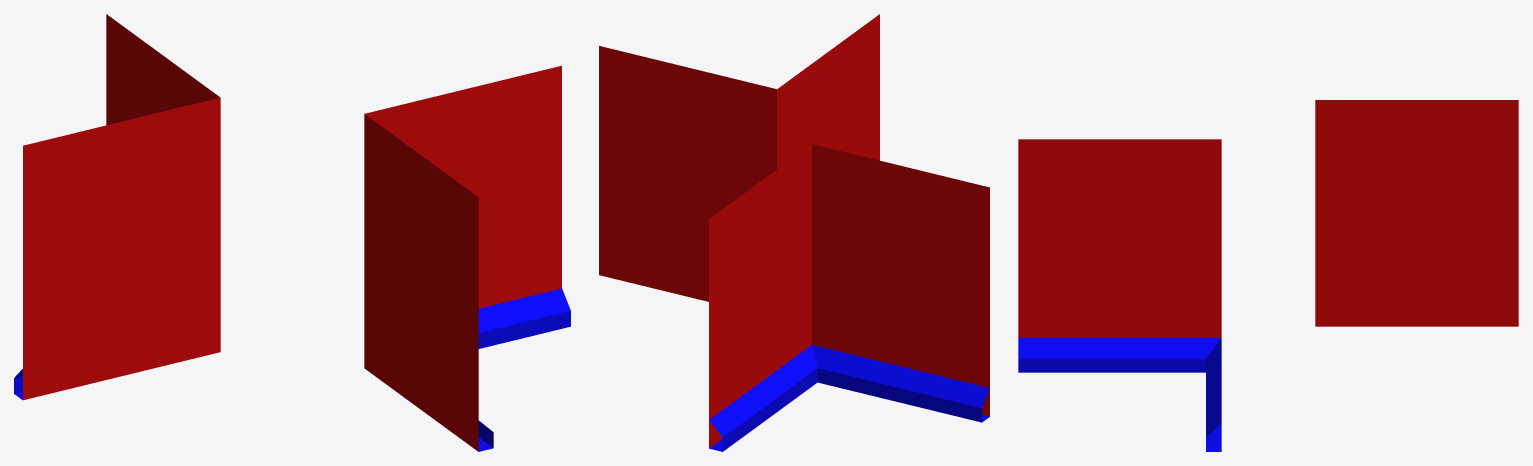
The picture shows the model from 3 angles, left to right: view 1: azimuth 30°, elevation 25°; view 2: azimuth 150°, elevation 25°; view 3: azimuth 270°, elevation 25°; orthographic projection. The views are drawn at different scales.
Parts seen in each view (by area): view 1: None_G_G_A_E_G_G_E_A_None; view 2: None_G_G_A_E_G_G_E_A_None; view 3: None_G_G_A_E_G_G_E_A_None.
Part boxes in pixels (x1,y1,x2,y2): None_G_G_A_E_G_G_E_A_None: (14,14,570,451); None_G_G_A_E_G_G_E_A_None: (599,14,989,451); None_G_G_A_E_G_G_E_A_None: (1018,100,1518,451).
Bounding box in the file's own units: 100 × 50 × 100.
